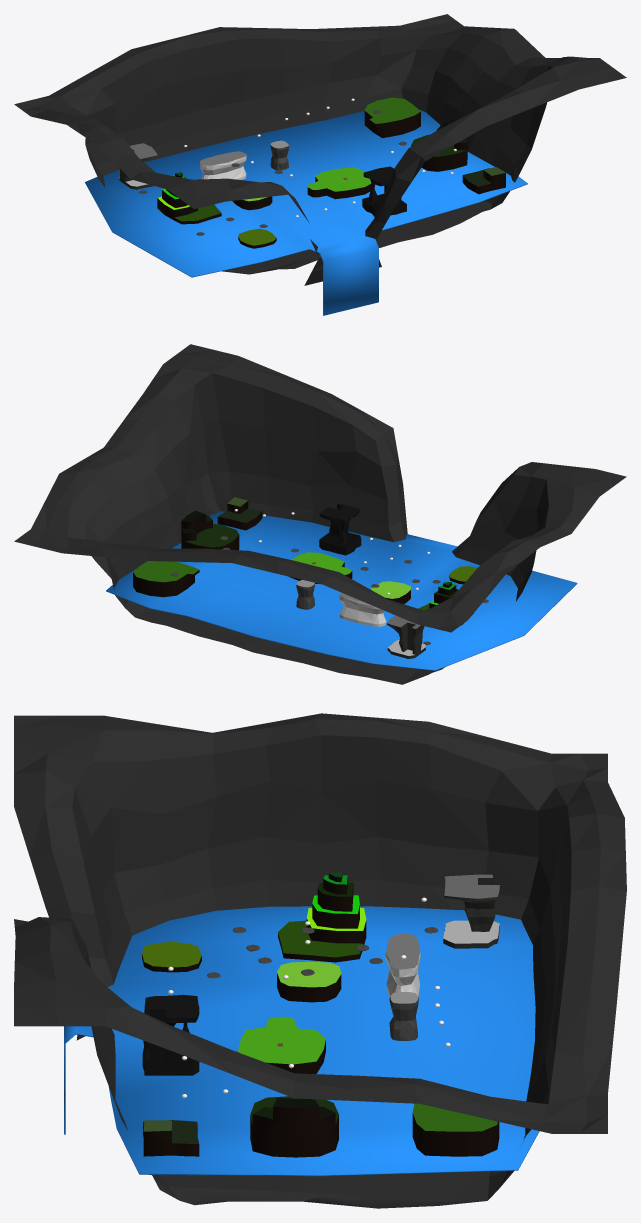
The model's file is SM_Section2.FBX.
3 views of the same model, one above another, from view 1: azimuth 30°, elevation 25°; view 2: azimuth 150°, elevation 25°; view 3: azimuth 270°, elevation 25° (orthographic). The views are drawn at different scales.
Visible parts, largest first — view 1: Perimeter, Water, SM_S2_Land_8, SM_S2_Land_5, SM_S2_Land_2, SM_S2_Land_10, SM_S2_Land_7, SM_S2_Land_3, SM_S2_Land_6, SM_S2_Land_11, SM_S2_Land_1, SM_S2_Land_9; view 2: Perimeter, Water, SM_S2_Land_8, SM_S2_Land_7, SM_S2_Land_3, SM_S2_Land_11, SM_S2_Land_10, SM_S2_Land_6, SM_S2_Land_5, SM_S2_Land_4, SM_S2_Land_9; view 3: Perimeter, Water, SM_S2_Land_2, SM_S2_Land_7, SM_S2_Land_8, SM_S2_Land_5, SM_S2_Land_11, SM_S2_Land_3, SM_S2_Land_4, SM_S2_Land_6, SM_S2_Land_10, SM_S2_Land_1 (+1 smaller).
Boxes of the visible parts, x1=… form: Perimeter: x1=14, y1=14, x2=626, y2=285; Water: x1=85, y1=109, x2=527, y2=315; SM_S2_Land_8: x1=364, y1=97, x2=420, y2=138; SM_S2_Land_5: x1=307, y1=167, x2=371, y2=199; SM_S2_Land_2: x1=157, y1=172, x2=221, y2=224; SM_S2_Land_10: x1=200, y1=151, x2=246, y2=179; SM_S2_Land_7: x1=411, y1=119, x2=467, y2=171; SM_S2_Land_3: x1=362, y1=166, x2=406, y2=216; SM_S2_Land_6: x1=462, y1=167, x2=505, y2=194; SM_S2_Land_11: x1=119, y1=143, x2=157, y2=189; SM_S2_Land_1: x1=238, y1=228, x2=276, y2=248; SM_S2_Land_9: x1=270, y1=140, x2=288, y2=170; Perimeter: x1=14, y1=344, x2=626, y2=684; Water: x1=106, y1=511, x2=577, y2=670; SM_S2_Land_8: x1=133, y1=561, x2=199, y2=597; SM_S2_Land_7: x1=181, y1=510, x2=239, y2=550; SM_S2_Land_3: x1=319, y1=503, x2=361, y2=555; SM_S2_Land_11: x1=386, y1=615, x2=425, y2=658; SM_S2_Land_10: x1=339, y1=592, x2=386, y2=626; SM_S2_Land_6: x1=217, y1=497, x2=262, y2=530; SM_S2_Land_5: x1=289, y1=552, x2=352, y2=584; SM_S2_Land_4: x1=371, y1=581, x2=410, y2=603; SM_S2_Land_9: x1=296, y1=580, x2=314, y2=609; Perimeter: x1=14, y1=713, x2=626, y2=1208; Water: x1=64, y1=906, x2=539, y2=1176; SM_S2_Land_2: x1=278, y1=872, x2=366, y2=962; SM_S2_Land_7: x1=250, y1=1096, x2=338, y2=1157; SM_S2_Land_8: x1=412, y1=1103, x2=499, y2=1156; SM_S2_Land_5: x1=238, y1=1016, x2=325, y2=1073; SM_S2_Land_11: x1=443, y1=874, x2=499, y2=948; SM_S2_Land_3: x1=142, y1=994, x2=199, y2=1075; SM_S2_Land_4: x1=277, y1=961, x2=341, y2=1002; SM_S2_Land_6: x1=143, y1=1120, x2=199, y2=1156; SM_S2_Land_10: x1=385, y1=933, x2=420, y2=997; SM_S2_Land_1: x1=142, y1=941, x2=201, y2=972.
Size of the model in its own units: 178 by 68.65 by 126.
